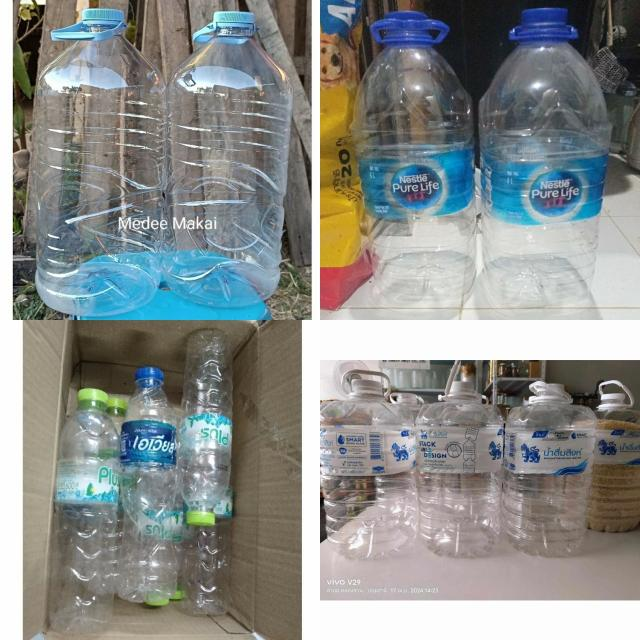plastik: (34, 9, 166, 316), (479, 9, 610, 307), (166, 11, 292, 306), (351, 11, 476, 308), (320, 361, 418, 559), (49, 389, 120, 634), (416, 362, 504, 558), (502, 381, 596, 556), (116, 366, 178, 605), (178, 329, 232, 526)
